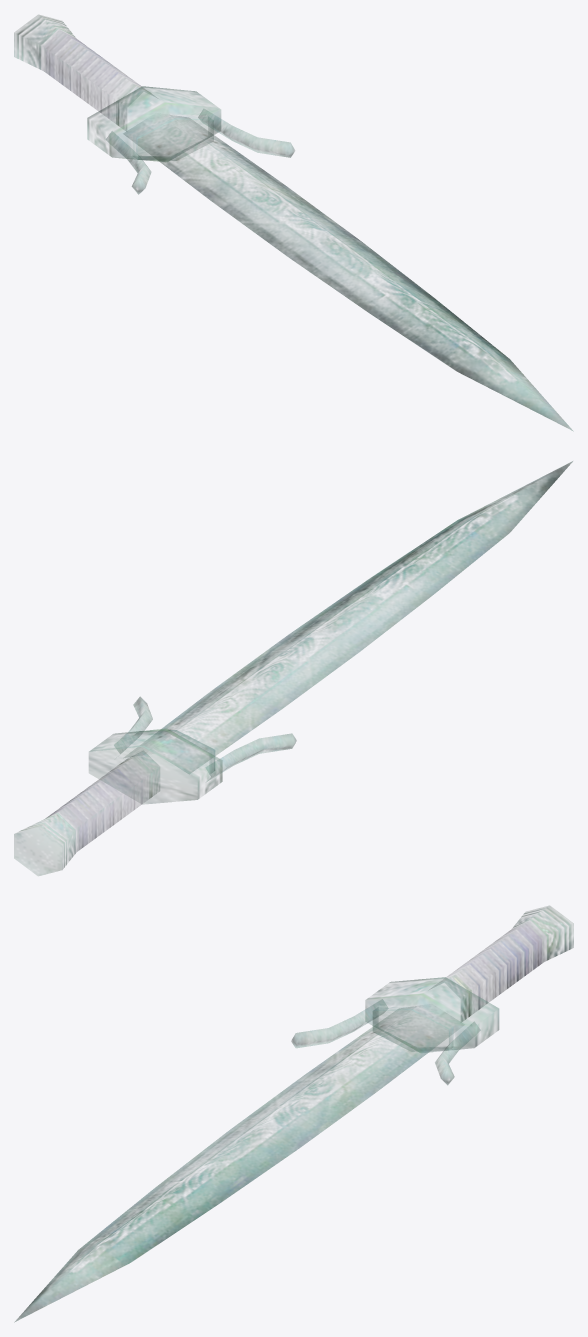
File: sword_02.glb
3 renders of one model, top to bottom at view 1: azimuth 30°, elevation 25°; view 2: azimuth 150°, elevation 25°; view 3: azimuth 330°, elevation 25°, orthographic.
Visible parts, largest first — view 1: sword_02; view 2: sword_02; view 3: sword_02.
Boxes of the visible parts, bbox=[...] form: sword_02: bbox=[14, 15, 573, 431]; sword_02: bbox=[14, 461, 572, 875]; sword_02: bbox=[14, 906, 573, 1322].
Size of the model in its own units: 0.1587 by 0.0547 by 0.9162.
Materials: 1 (1 with a texture image).
